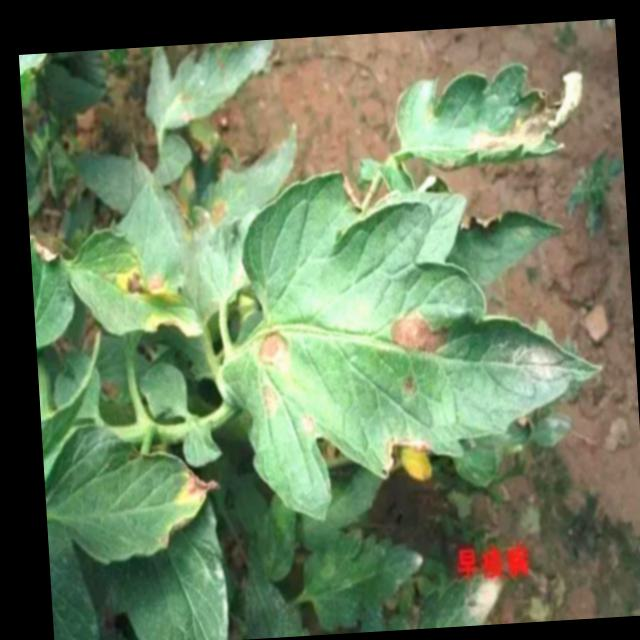Early_blight: (466, 69, 587, 152), (385, 301, 451, 360), (378, 428, 435, 480), (173, 461, 223, 504), (122, 264, 171, 306), (255, 325, 294, 377), (339, 170, 364, 213), (259, 383, 280, 420), (297, 407, 317, 436)
